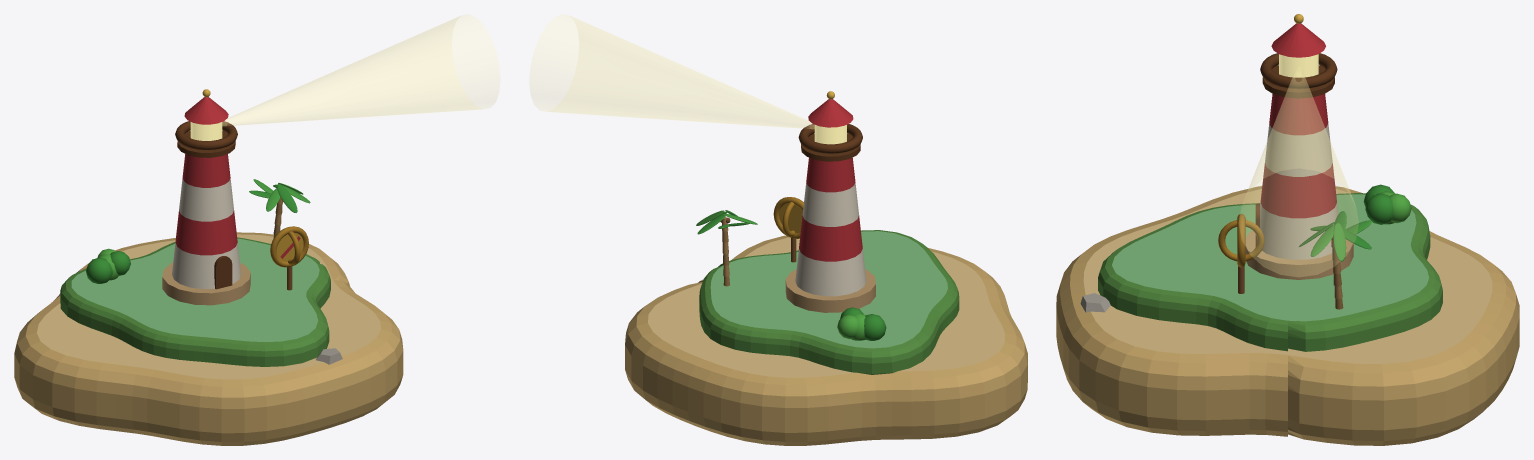
Rendered from numbers.glb.
3 renders of one model, left to right at view 1: azimuth 30°, elevation 25°; view 2: azimuth 150°, elevation 25°; view 3: azimuth 270°, elevation 25°, orthographic. The views are drawn at different scales.
Visible parts, largest first — view 1: part_000, part_005, part_002, part_007, part_011, part_010, part_003; view 2: part_000, part_005, part_002, part_010, part_007, part_011, part_003; view 3: part_000, part_002, part_005, part_011, part_010, part_007, part_003, part_012.
Part boxes in pixels (x1=…): part_000: x1=14, y1=232, x2=403, y2=445; part_005: x1=222, y1=14, x2=499, y2=125; part_002: x1=162, y1=89, x2=250, y2=305; part_007: x1=270, y1=226, x2=308, y2=290; part_011: x1=249, y1=179, x2=310, y2=238; part_010: x1=86, y1=248, x2=130, y2=283; part_003: x1=190, y1=122, x2=222, y2=140; part_000: x1=625, y1=230, x2=1027, y2=445; part_005: x1=529, y1=14, x2=814, y2=128; part_002: x1=785, y1=91, x2=875, y2=312; part_010: x1=837, y1=307, x2=886, y2=340; part_007: x1=773, y1=197, x2=803, y2=262; part_011: x1=696, y1=210, x2=757, y2=286; part_003: x1=814, y1=125, x2=846, y2=144; part_000: x1=1056, y1=186, x2=1519, y2=445; part_002: x1=1245, y1=14, x2=1353, y2=279; part_005: x1=1239, y1=67, x2=1358, y2=276; part_011: x1=1299, y1=211, x2=1372, y2=309; part_010: x1=1363, y1=184, x2=1411, y2=224; part_007: x1=1218, y1=213, x2=1264, y2=293; part_003: x1=1279, y1=54, x2=1318, y2=77; part_012: x1=1080, y1=293, x2=1110, y2=312.
Size of the model in its own units: 11.66 by 7.15 by 8.47.
